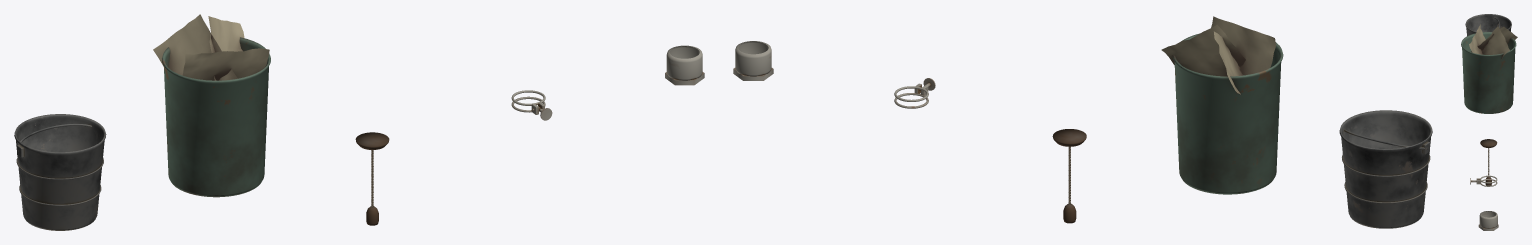
File: Fixtures.fbx
3 views of the same model, side by side, from view 1: azimuth 30°, elevation 25°; view 2: azimuth 150°, elevation 25°; view 3: azimuth 270°, elevation 25° (orthographic). The views are drawn at different scales.
Visible parts, largest first — view 1: TrashBin, Bucket, PipeCollar, LampCord, PipeClamp; view 2: TrashBin, Bucket, PipeCollar, LampCord, PipeClamp; view 3: TrashBin, Bucket, PipeCollar, LampCord, PipeClamp.
Boxes of the visible parts, x1=… form: TrashBin: x1=153, y1=14, x2=270, y2=197; Bucket: x1=14, y1=114, x2=106, y2=230; PipeCollar: x1=665, y1=45, x2=704, y2=85; LampCord: x1=355, y1=132, x2=389, y2=225; PipeClamp: x1=511, y1=90, x2=552, y2=120; TrashBin: x1=1161, y1=16, x2=1283, y2=194; Bucket: x1=1339, y1=110, x2=1432, y2=228; PipeCollar: x1=733, y1=41, x2=773, y2=80; LampCord: x1=1052, y1=129, x2=1086, y2=223; PipeClamp: x1=894, y1=78, x2=935, y2=108; TrashBin: x1=1461, y1=24, x2=1517, y2=113; Bucket: x1=1465, y1=14, x2=1511, y2=35; PipeCollar: x1=1478, y1=211, x2=1498, y2=230; LampCord: x1=1480, y1=139, x2=1497, y2=185; PipeClamp: x1=1470, y1=175, x2=1497, y2=186.
Size of the model in its own units: 2.62 by 0.8756 by 0.3739.
